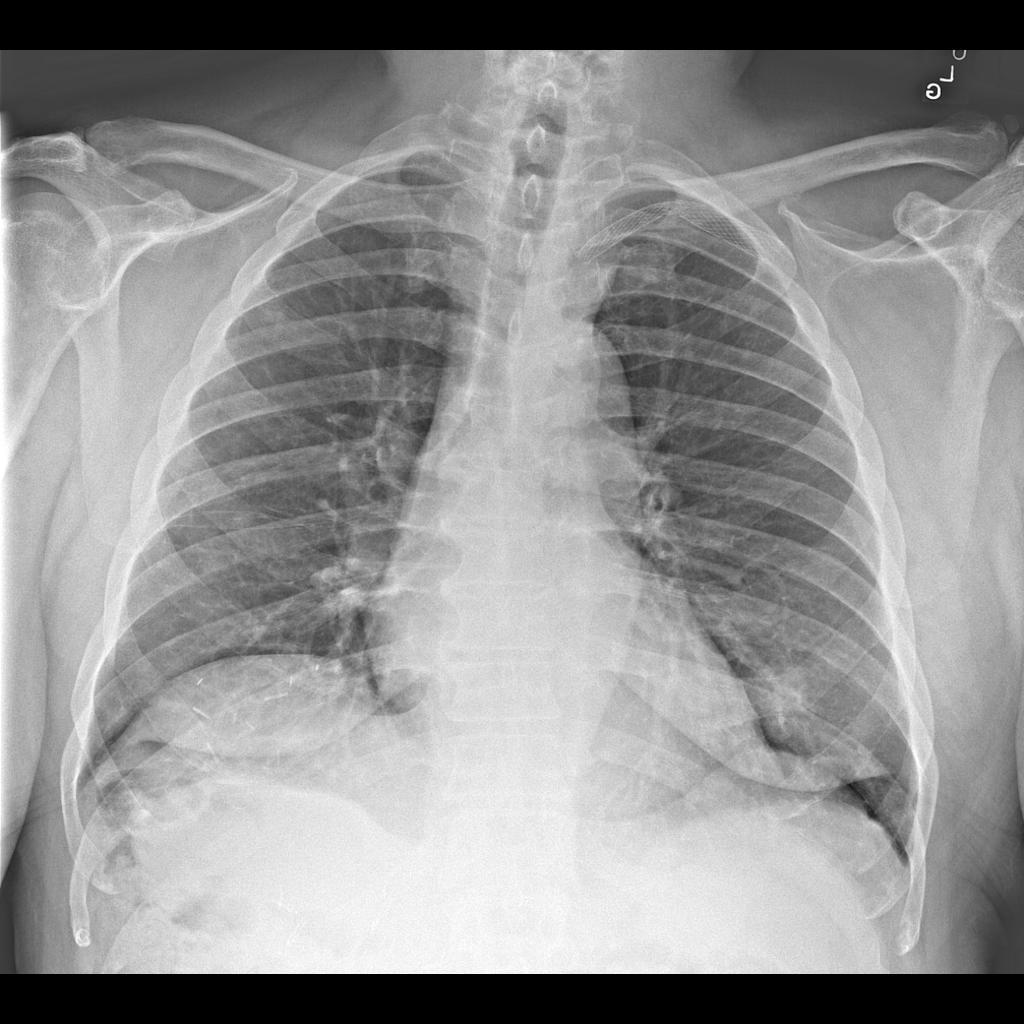Nodule: (745, 654, 816, 735)
